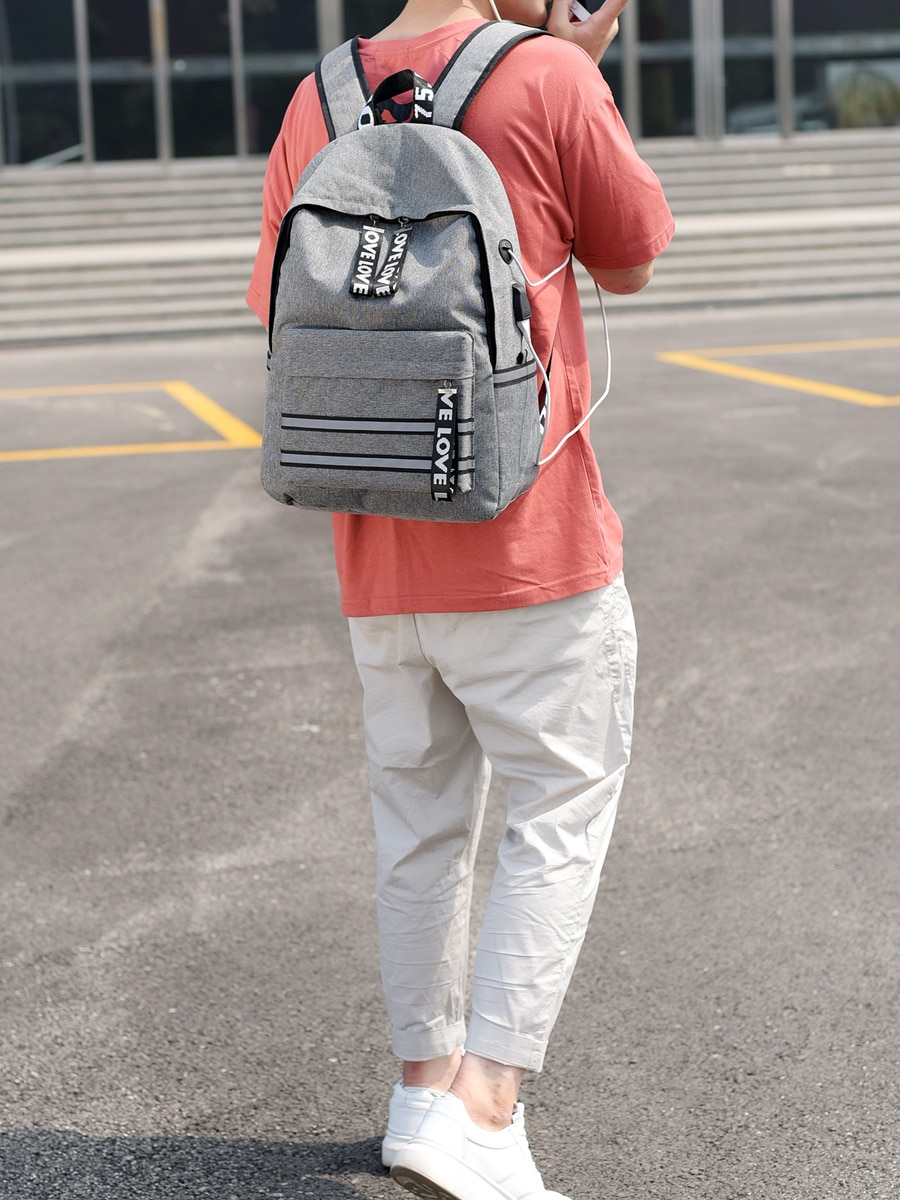Bottoms|Pants: (348, 574, 645, 1076)
Men's Backpacks: (257, 70, 552, 514)
Shoes: (395, 1094, 567, 1200)
Tops|T-shirts & Tanks: (239, 17, 677, 608)
